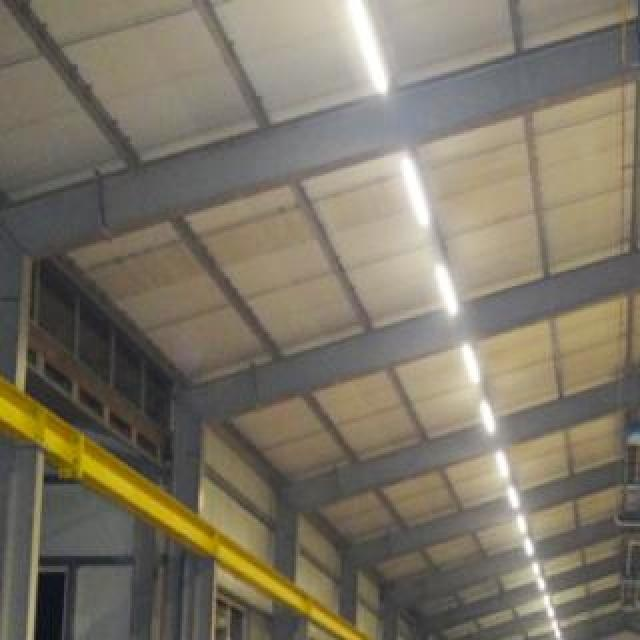fluorescent tube: (318, 0, 406, 104), (384, 146, 438, 238), (442, 333, 485, 387), (427, 258, 465, 311), (467, 380, 500, 438), (482, 444, 520, 484)
